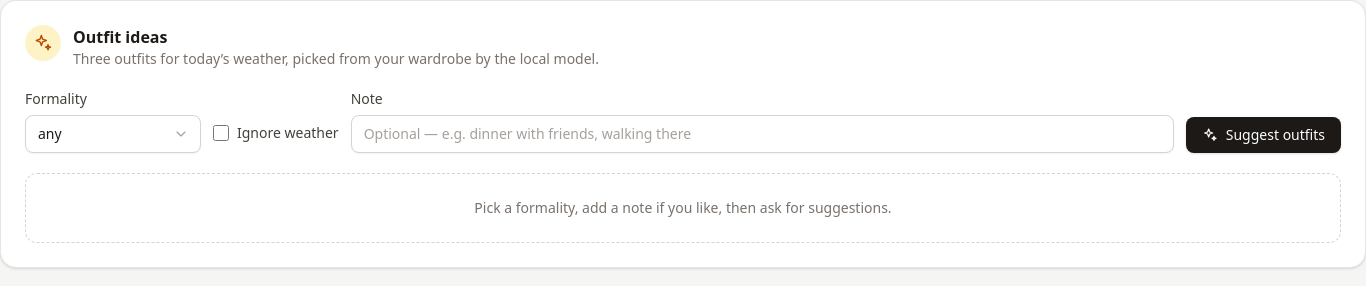
Test: ING-050 - tester edge cases › falls back to an HTTP status message when the error body is not JSON
This screenshot has width=1366, height=286.
Click the button "Suggest outfits".
click(1263, 135)  # box [1186,117,1341,153]
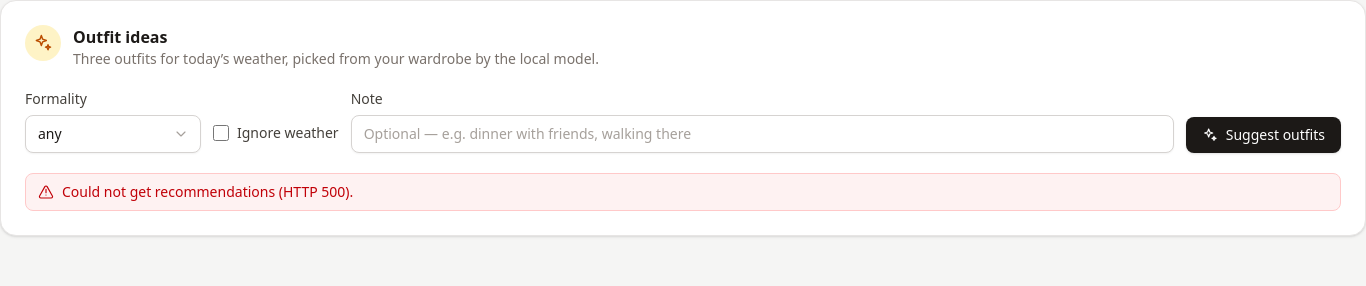
Now the message reads "Could not get recommendations (HTTP 500).", box [62,182,353,201]
